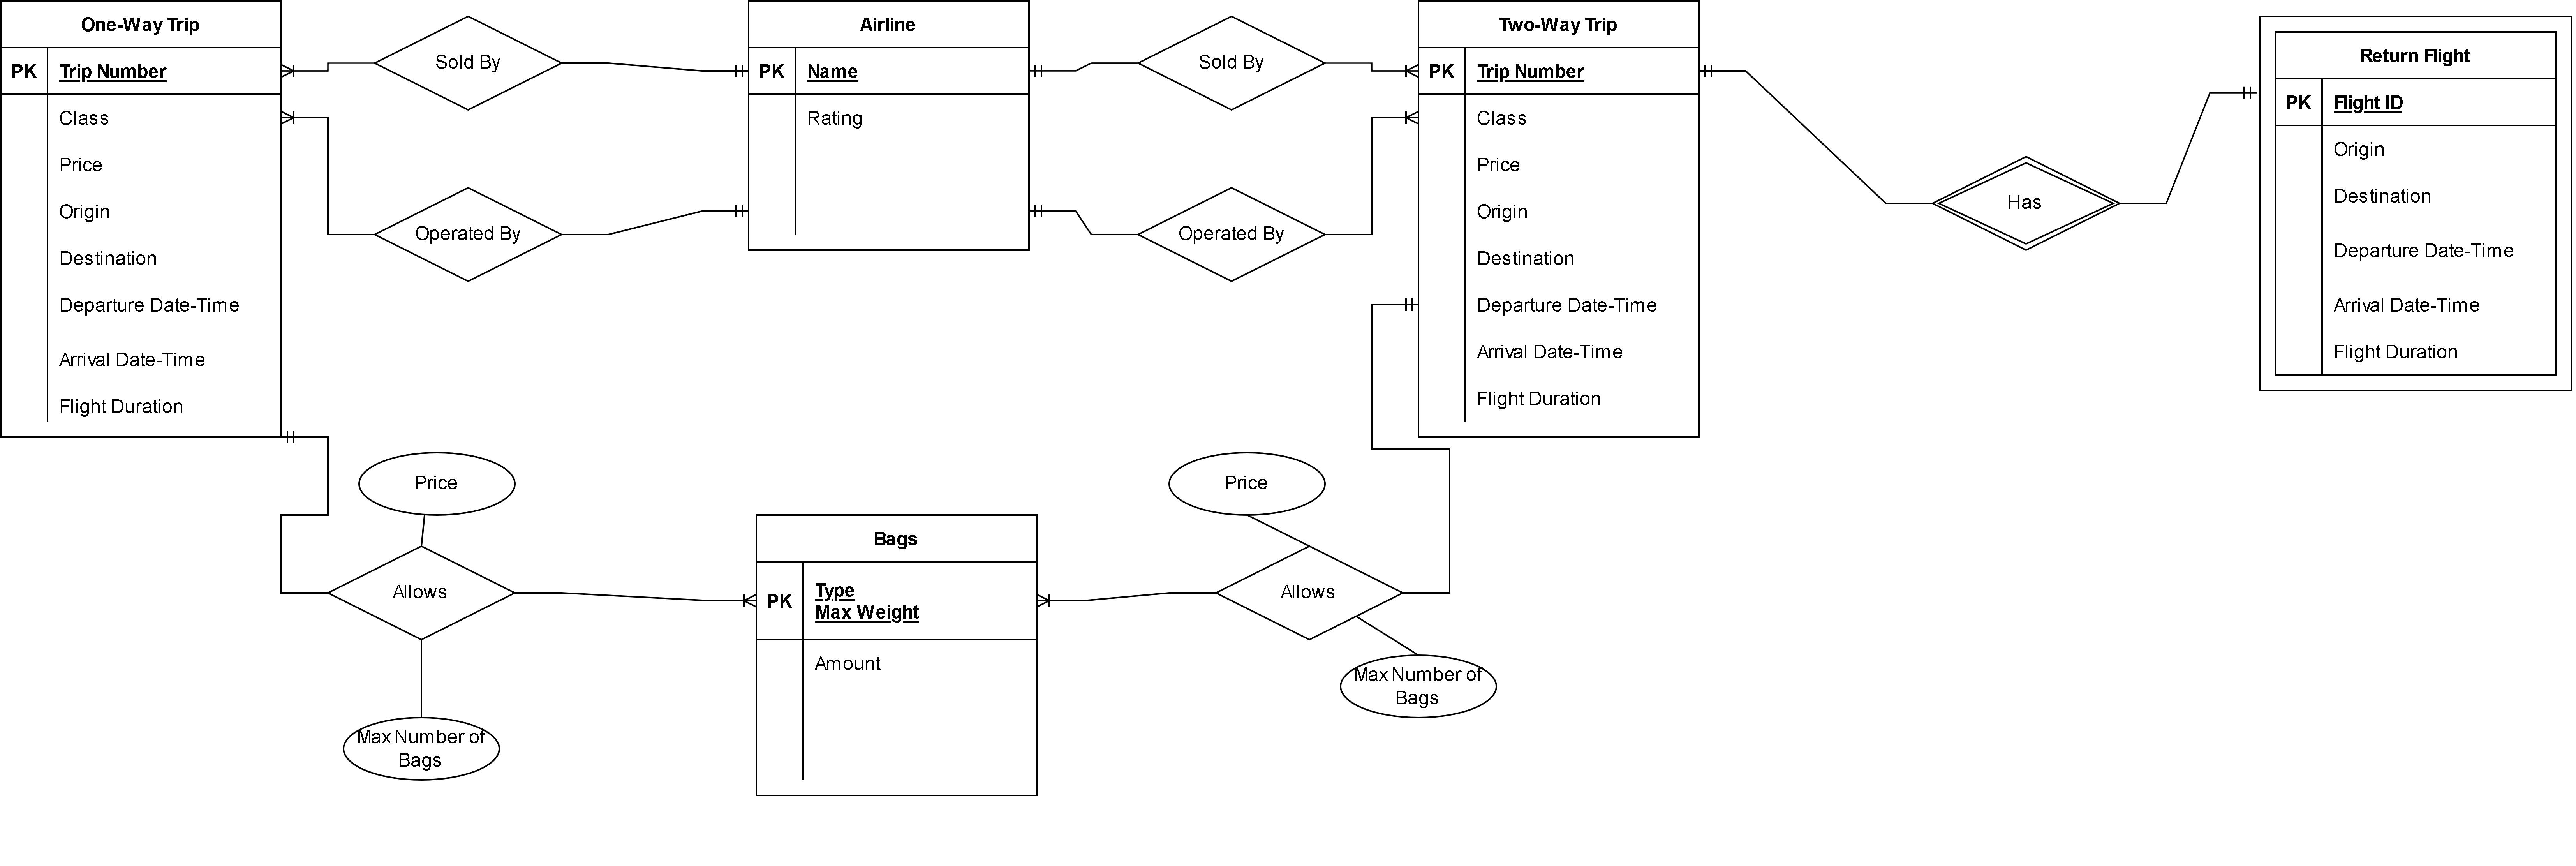attribute: (1166, 452, 1326, 516), (342, 718, 499, 779), (360, 454, 513, 516), (1341, 657, 1497, 718)
entity: (1415, 0, 1699, 440), (0, 0, 283, 440), (754, 511, 1042, 800), (746, 0, 1028, 251)
relationship: (371, 187, 560, 284), (1135, 13, 1322, 110), (1138, 186, 1326, 283), (378, 16, 565, 112), (1217, 546, 1401, 641), (330, 549, 514, 641)
weakentity: (2257, 15, 2576, 393)
weakrelationship: (1935, 158, 2119, 251)
